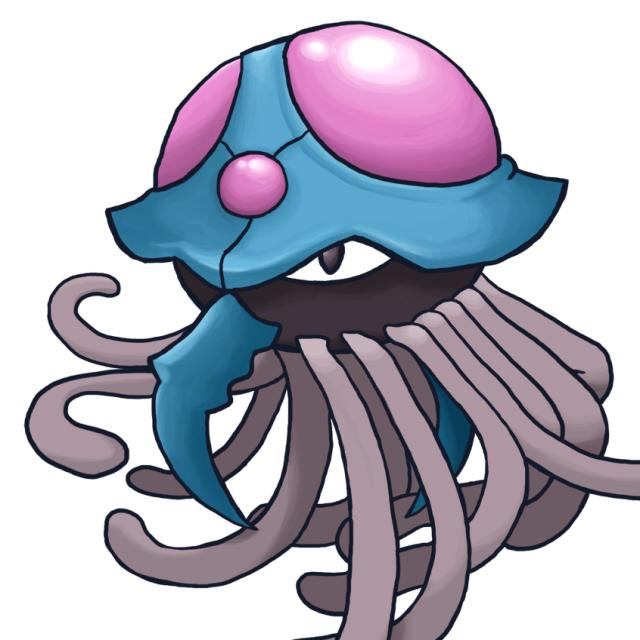Tentacruel: (115, 13, 565, 548)
